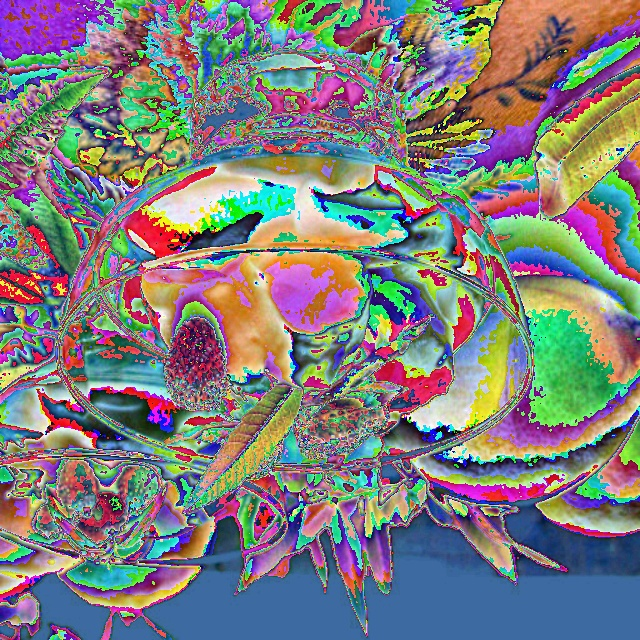background: (0, 152, 640, 613)
